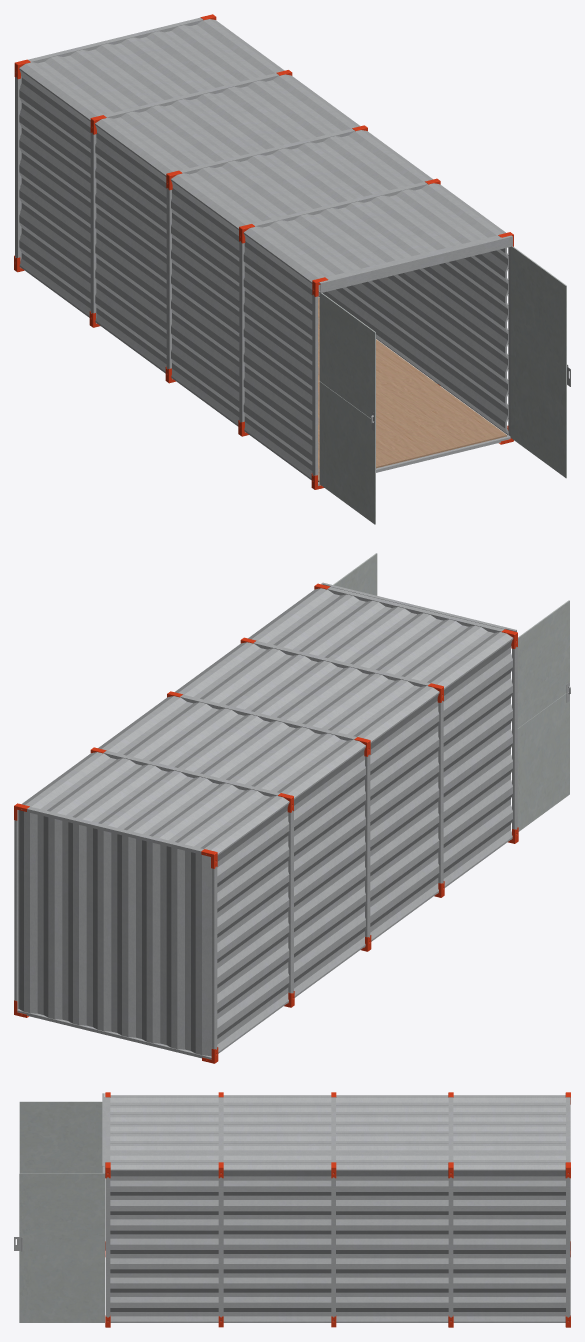
File: 12M_opened.glb
3 views of the same model, one above another, from view 1: azimuth 30°, elevation 25°; view 2: azimuth 150°, elevation 25°; view 3: azimuth 270°, elevation 25° (orthographic). The views are drawn at different scales.
Visible parts, largest first — view 1: leftWall, ceiling, rightWall, rightSideDoorWing.001, leftSideDoorWing.001, floor.001, frontRim, middleBackRim.001, gutter, middleRim, middleFrontRim, backRim; view 2: leftWall, ceiling, backWall, leftSideDoorWing.001, backRim, middleRim, middleBackRim.001, middleFrontRim, frontRim, rightSideDoorWing.001; view 3: rightWall, ceiling, rightSideDoorWing.001, leftSideDoorWing.001, middleBackRim.001, middleFrontRim, frontRim, middleRim, backRim, gutter.
Boxes of the visible parts, <box> form: leftWall: <box>19,70,318,479</box>; ceiling: <box>19,19,505,283</box>; rightWall: <box>318,248,508,435</box>; rightSideDoorWing.001: <box>510,246,566,478</box>; leftSideDoorWing.001: <box>319,293,375,524</box>; floor.001: <box>318,297,506,482</box>; frontRim: <box>312,235,510,485</box>; middleBackRim.001: <box>89,70,292,327</box>; gutter: <box>318,235,512,293</box>; middleRim: <box>165,125,367,383</box>; middleFrontRim: <box>238,178,440,436</box>; backRim: <box>14,14,216,272</box>; leftWall: <box>217,640,512,1053</box>; ceiling: <box>21,588,513,855</box>; backWall: <box>18,810,211,1056</box>; leftSideDoorWing.001: <box>517,600,569,831</box>; backRim: <box>14,803,218,1063</box>; middleRim: <box>167,691,371,951</box>; middleBackRim.001: <box>90,747,294,1007</box>; middleFrontRim: <box>240,637,444,897</box>; frontRim: <box>327,587,517,839</box>; rightSideDoorWing.001: <box>333,553,377,595</box>; rightWall: <box>110,1170,565,1322</box>; ceiling: <box>110,1095,565,1170</box>; rightSideDoorWing.001: <box>19,1173,104,1322</box>; leftSideDoorWing.001: <box>19,1101,105,1250</box>; middleBackRim.001: <box>448,1092,453,1327</box>; middleFrontRim: <box>218,1092,223,1327</box>; frontRim: <box>105,1097,110,1321</box>; middleRim: <box>331,1092,336,1327</box>; backRim: <box>565,1092,570,1327</box>; gutter: <box>102,1093,105,1173</box>.
Size of the model in its own units: 23.18 by 23.06 by 72.5.
Materials: 6 (5 with a texture image).
